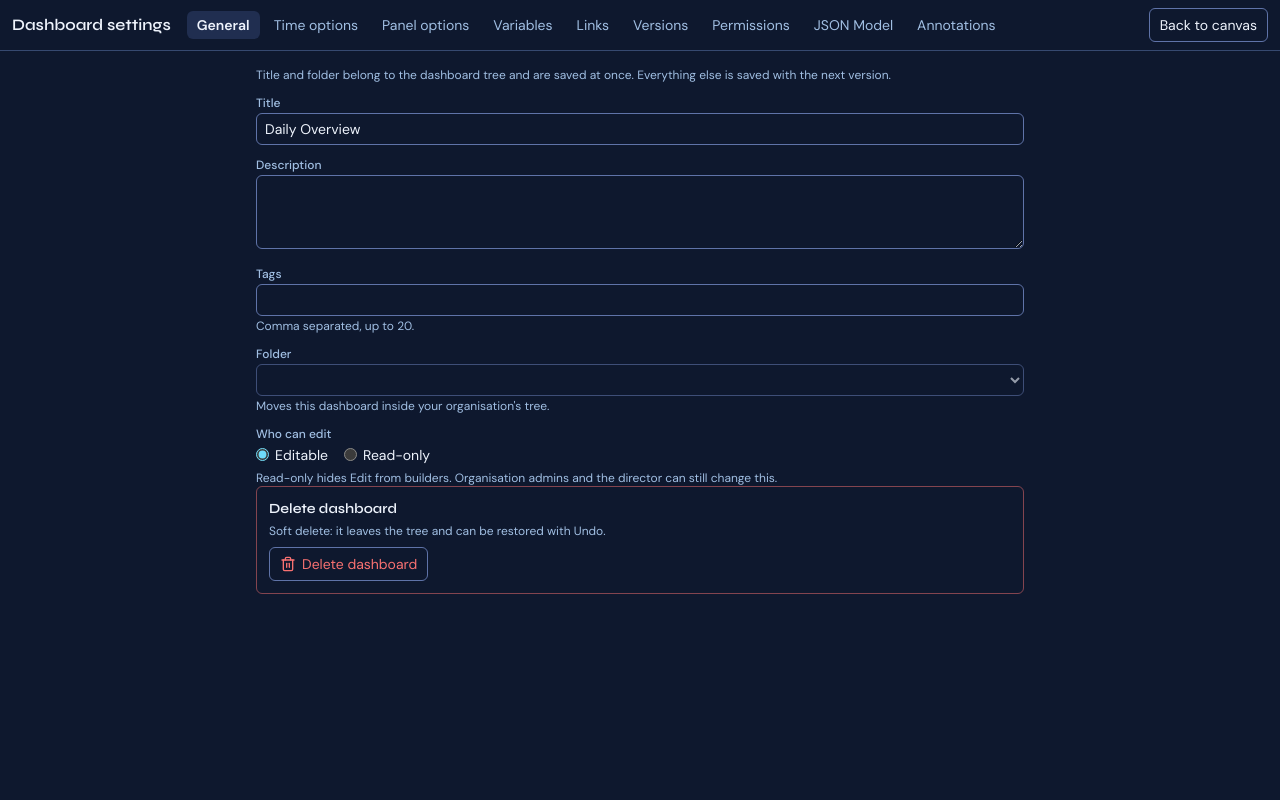
Test: settings view (UI) › deletes with a confirmation and offers Undo
The image size is (1280, 800).
Click the button "Delete dashboard": (349, 564) [269, 547, 428, 581]
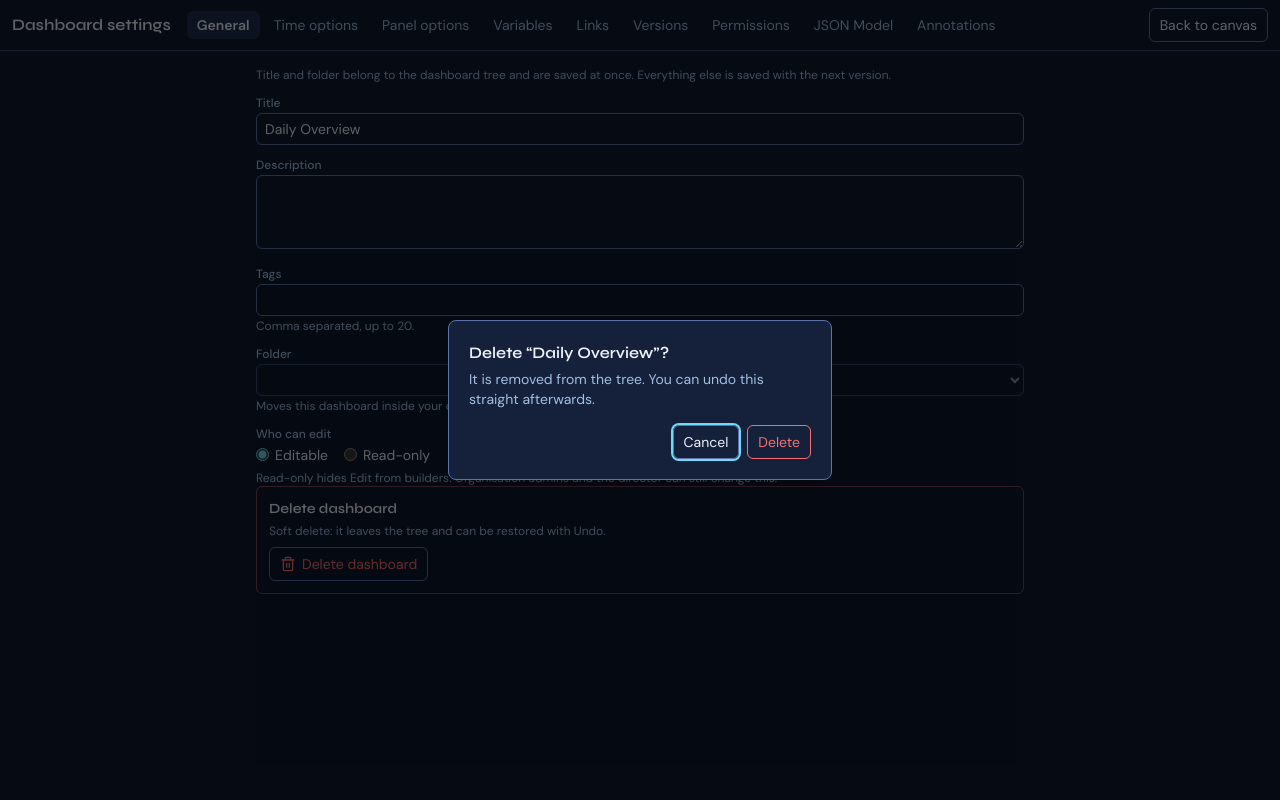
Check: the dialog is shown, box [448, 320, 832, 480]
Click the button "Delete": (779, 442) [747, 425, 811, 459]
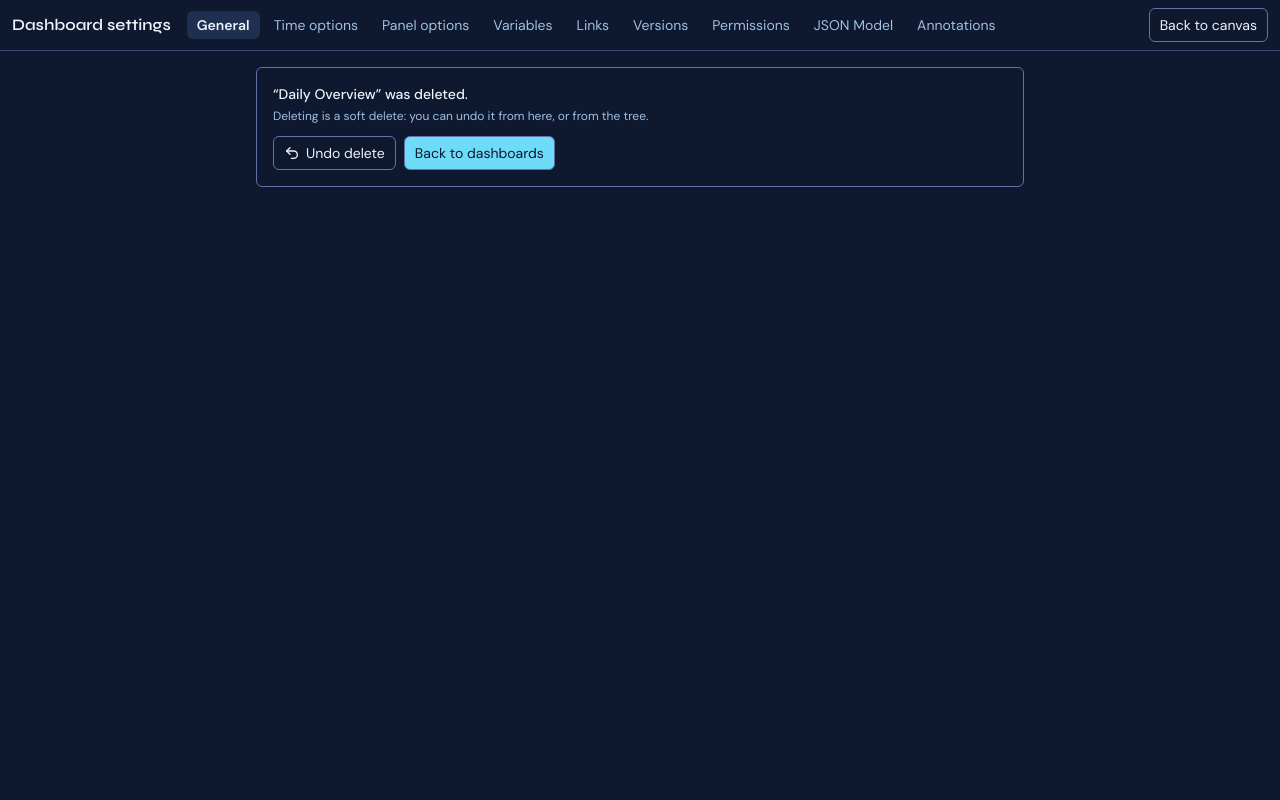
Check: the text "“Daily Overview” was deleted." is shown, box [273, 85, 468, 103]
Click the button "Undo delete": (334, 153) [273, 136, 396, 170]
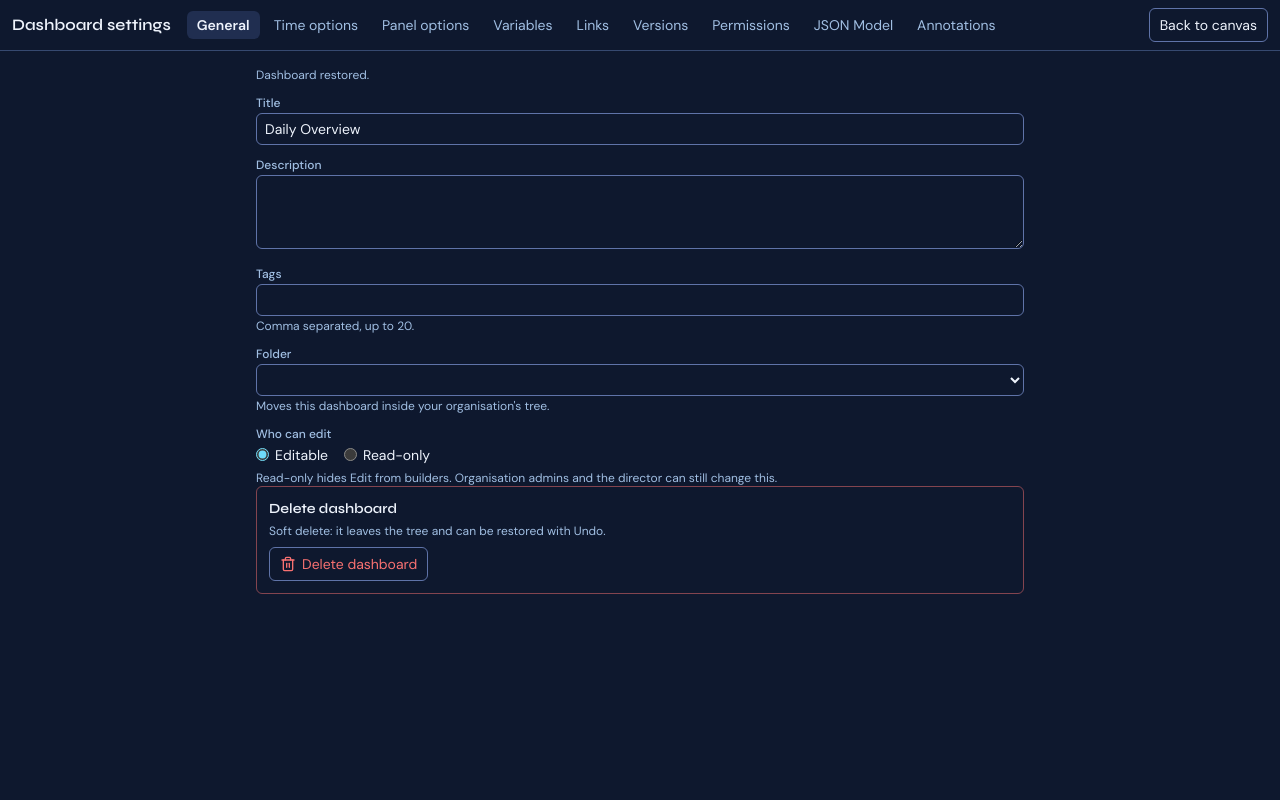
Check: the text "Dashboard restored." is shown, box [256, 67, 369, 83]
